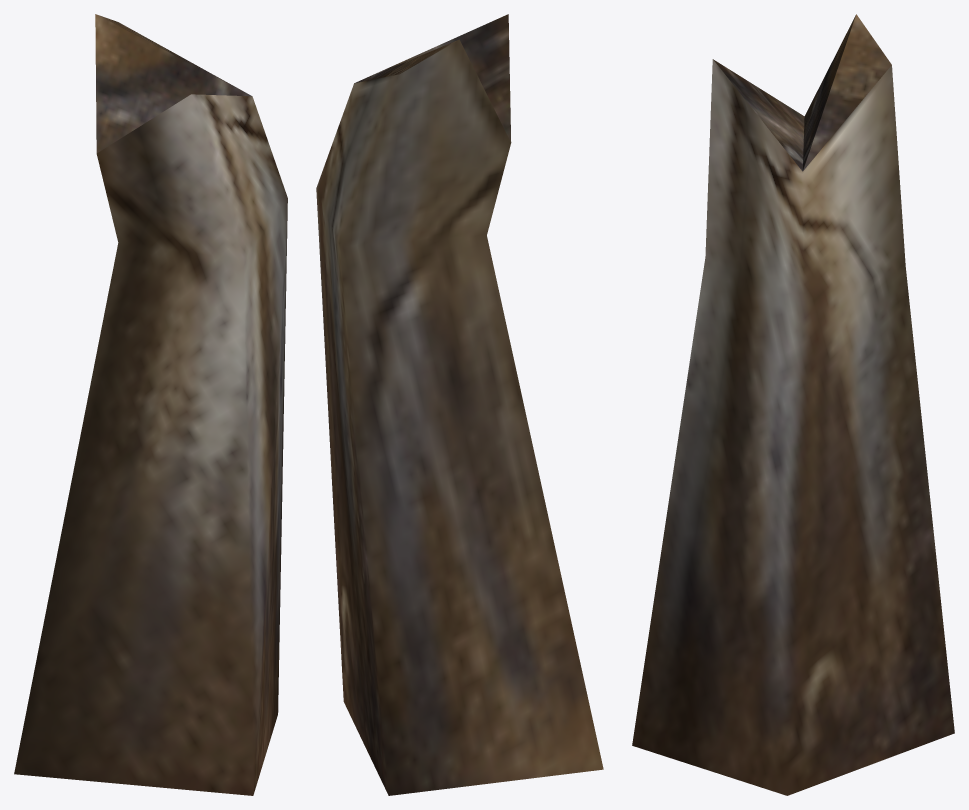
Rendered from D_baigu006.fbx.
3 views of the same model, side by side, from view 1: azimuth 30°, elevation 25°; view 2: azimuth 150°, elevation 25°; view 3: azimuth 270°, elevation 25° (orthographic). The views are drawn at different scales.
Parts seen in each view (by area): view 1: D_baigu006; view 2: D_baigu006; view 3: D_baigu006.
Boxes of the visible parts, box(x1,y1,x2,y2) form: D_baigu006: box(14, 14, 287, 795); D_baigu006: box(316, 14, 603, 795); D_baigu006: box(632, 14, 954, 795).
Size of the model in its own units: 58.87 by 144 by 59.32.
